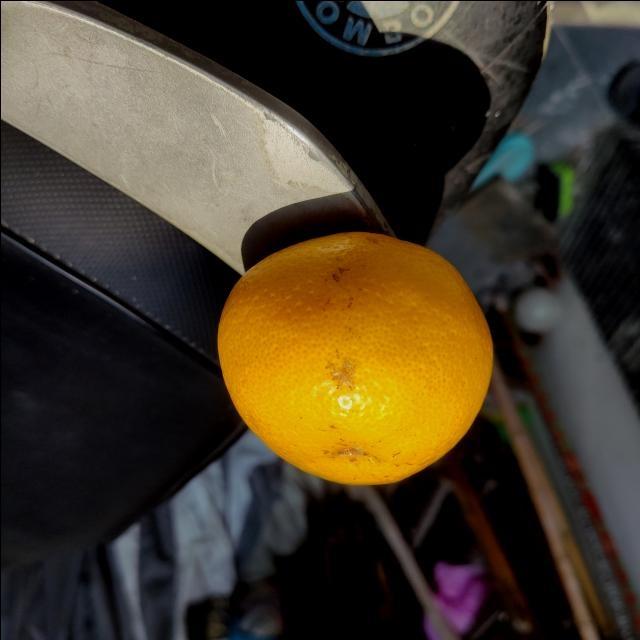agrume: (212, 230, 496, 485)
